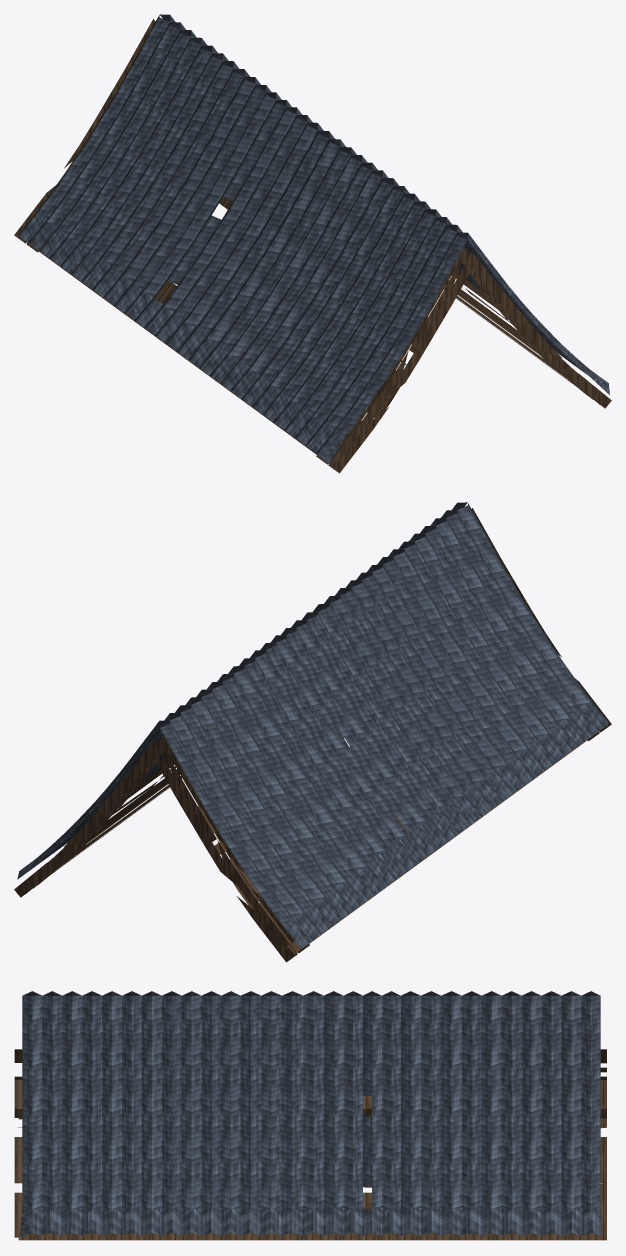
Rendered from Roof_Slate_6x14.gltf.
3 views of the same model, one above another, from view 1: azimuth 30°, elevation 25°; view 2: azimuth 150°, elevation 25°; view 3: azimuth 270°, elevation 25° (orthographic). The views are drawn at different scales.
Visible parts, largest first — view 1: Roof_Slate_6x14; view 2: Roof_Slate_6x14; view 3: Roof_Slate_6x14.
Boxes of the visible parts, x1,y1,x2,y2 form: Roof_Slate_6x14: (14,14,611,473); Roof_Slate_6x14: (14,502,611,962); Roof_Slate_6x14: (14,991,606,1240).
Bounding box in the file's own units: 8.25 × 5.42 × 15.66.
2 materials, 2 textured.
